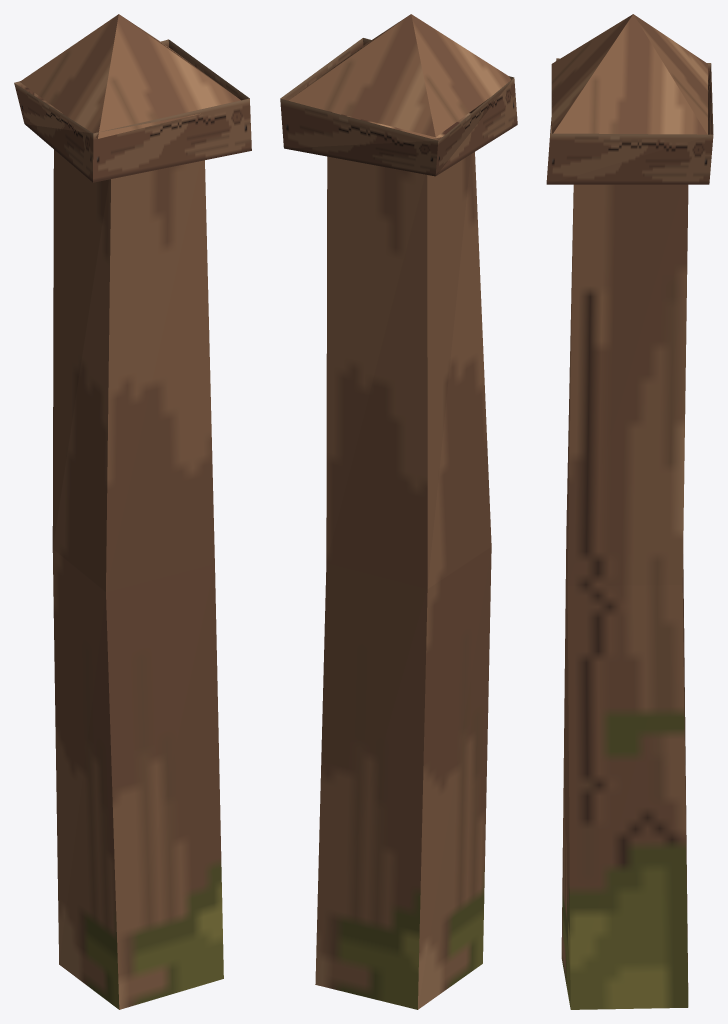
File: SM_ST04_Post.fbx
3 views of the same model, side by side, from view 1: azimuth 30°, elevation 25°; view 2: azimuth 150°, elevation 25°; view 3: azimuth 270°, elevation 25° (orthographic).
Visible parts, largest first — view 1: ST04_Post; view 2: ST04_Post; view 3: ST04_Post.
Part boxes in pixels (box(x1,y1,x2,y2)): ST04_Post: box(14, 14, 251, 1009); ST04_Post: box(280, 14, 517, 1009); ST04_Post: box(546, 14, 713, 1009).
Size of the model in its own units: 0.2648 by 1.56 by 0.2457.
